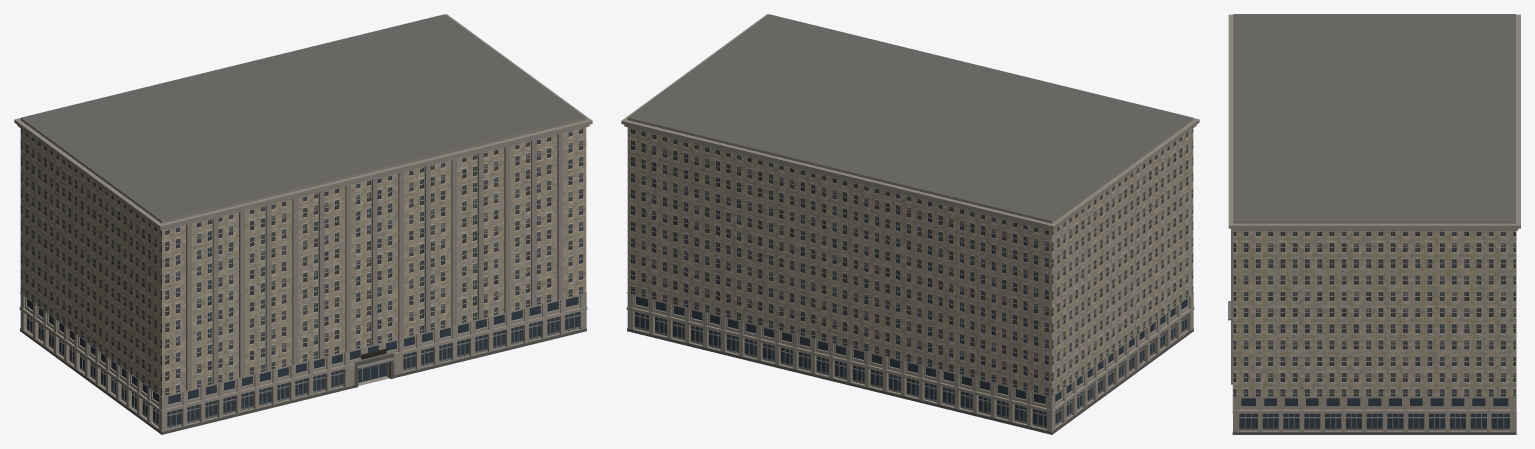
Rendered from king_county_courthouse.glb.
3 views of the same model, side by side, from view 1: azimuth 30°, elevation 25°; view 2: azimuth 150°, elevation 25°; view 3: azimuth 270°, elevation 25° (orthographic).
Visible parts, largest first — view 1: king_county_courthouse; view 2: king_county_courthouse; view 3: king_county_courthouse.
Boxes of the visible parts, x1,y1,x2,y2 form: king_county_courthouse: (14, 14, 592, 434); king_county_courthouse: (621, 14, 1199, 434); king_county_courthouse: (1228, 14, 1520, 434).
Size of the model in its own units: 106 by 50 by 62.1.
Materials: 2 (2 with a texture image).
